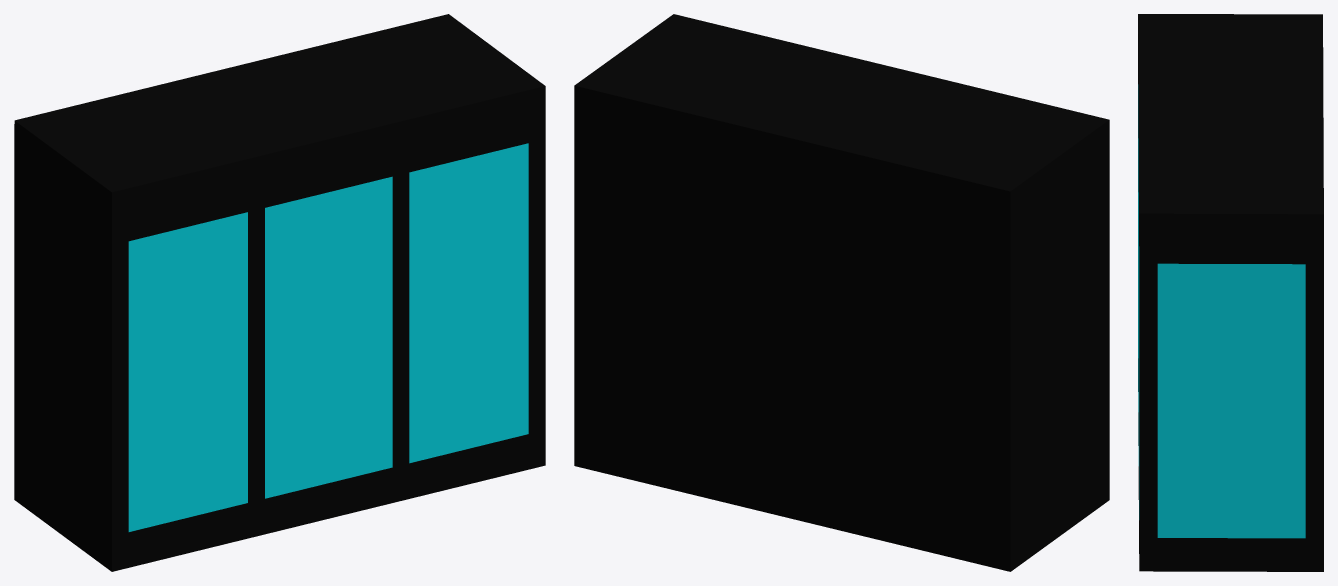
Rendered from Server.fbx.
The picture shows the model from 3 angles, left to right: view 1: azimuth 30°, elevation 25°; view 2: azimuth 150°, elevation 25°; view 3: azimuth 270°, elevation 25°; orthographic projection. The views are drawn at different scales.
Parts seen in each view (by area): view 1: Server; view 2: Server; view 3: Server.
Boxes of the visible parts, x1=… form: Server: x1=14, y1=14, x2=545, y2=571; Server: x1=574, y1=14, x2=1109, y2=571; Server: x1=1138, y1=14, x2=1323, y2=571.
Bounding box in the file's own units: 258 × 215 × 101.
